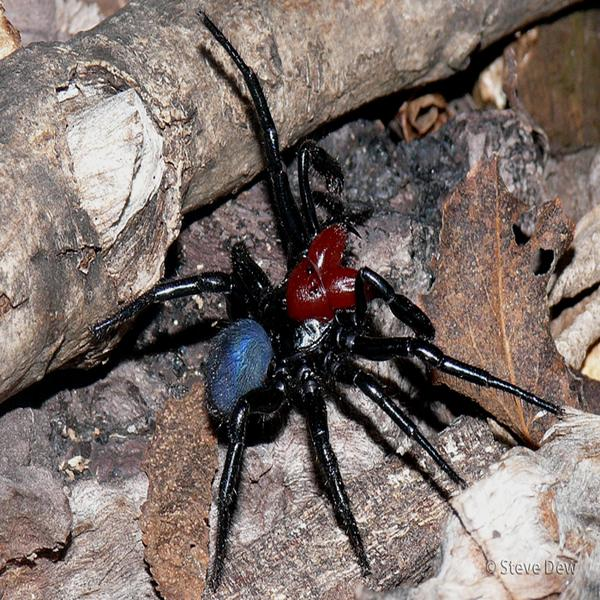Red Headed Mouse Spider: (104, 25, 530, 552)
